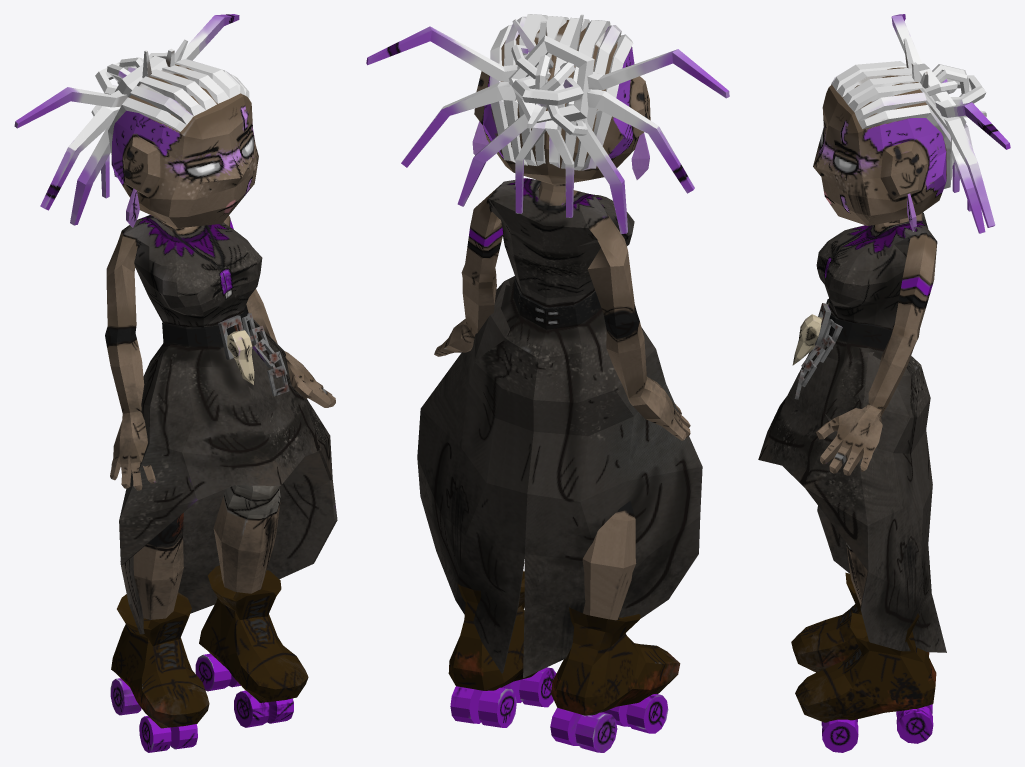
The model's file is bruja_000015.obj.
The picture shows the model from 3 angles, left to right: view 1: azimuth 30°, elevation 25°; view 2: azimuth 150°, elevation 25°; view 3: azimuth 270°, elevation 25°; orthographic projection. The views are drawn at different scales.
Visible parts, largest first — view 1: Bruja_Plane.001; view 2: Bruja_Plane.001; view 3: Bruja_Plane.001.
Boxes of the visible parts, <box> form: Bruja_Plane.001: <box>14,14,337,752</box>; Bruja_Plane.001: <box>366,14,729,752</box>; Bruja_Plane.001: <box>758,14,1010,752</box>.
Bounding box in the file's own units: 7.72 × 16.45 × 5.67.
